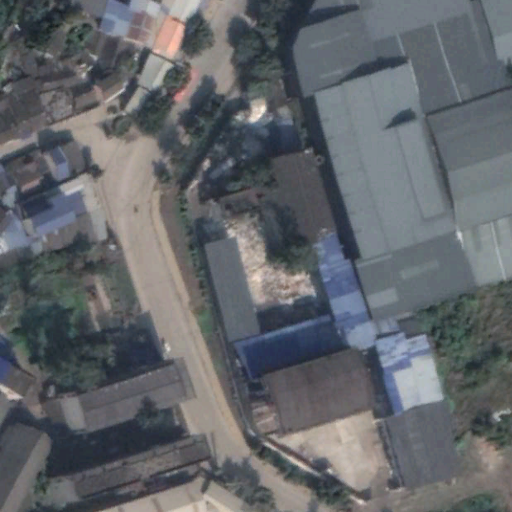msw: (226, 214, 319, 332)
